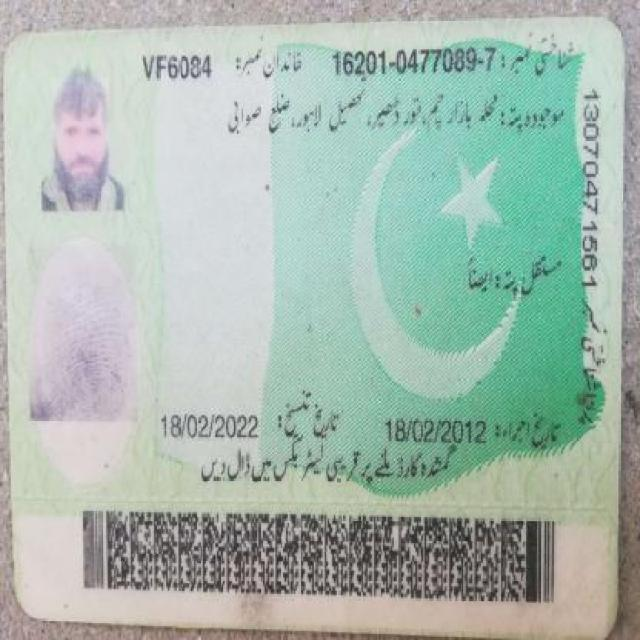Back: (8, 17, 615, 626)
